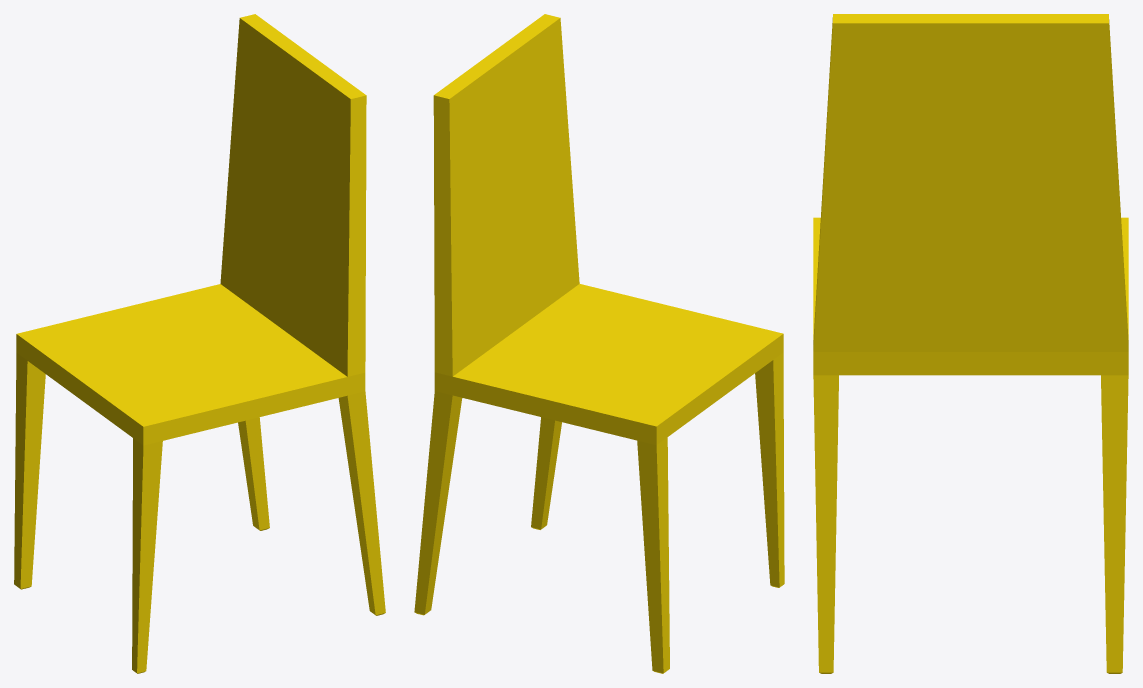
Rendered from chaise.glb.
3 renders of one model, left to right at view 1: azimuth 30°, elevation 25°; view 2: azimuth 150°, elevation 25°; view 3: azimuth 270°, elevation 25°, orthographic. The views are drawn at different scales.
Visible parts, largest first — view 1: Cube; view 2: Cube; view 3: Cube.
Boxes of the visible parts, x1,y1,x2,y2 form: Cube: (14,14,385,673); Cube: (414,14,784,673); Cube: (813,14,1128,673).
Bounding box in the file's own units: 0.33 × 0.6557 × 0.2912.
